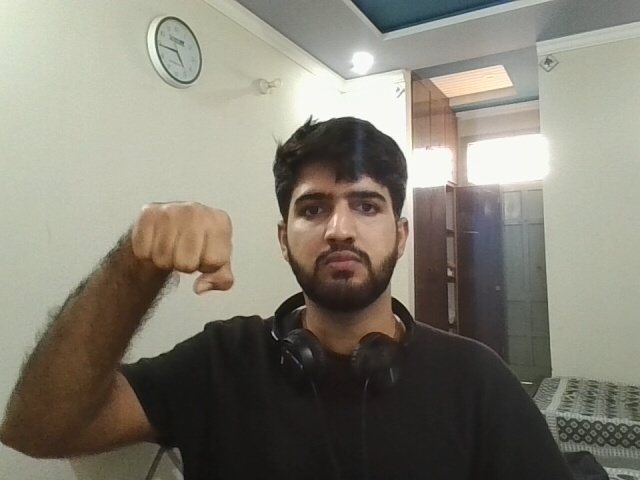Yes: (114, 188, 261, 303)
